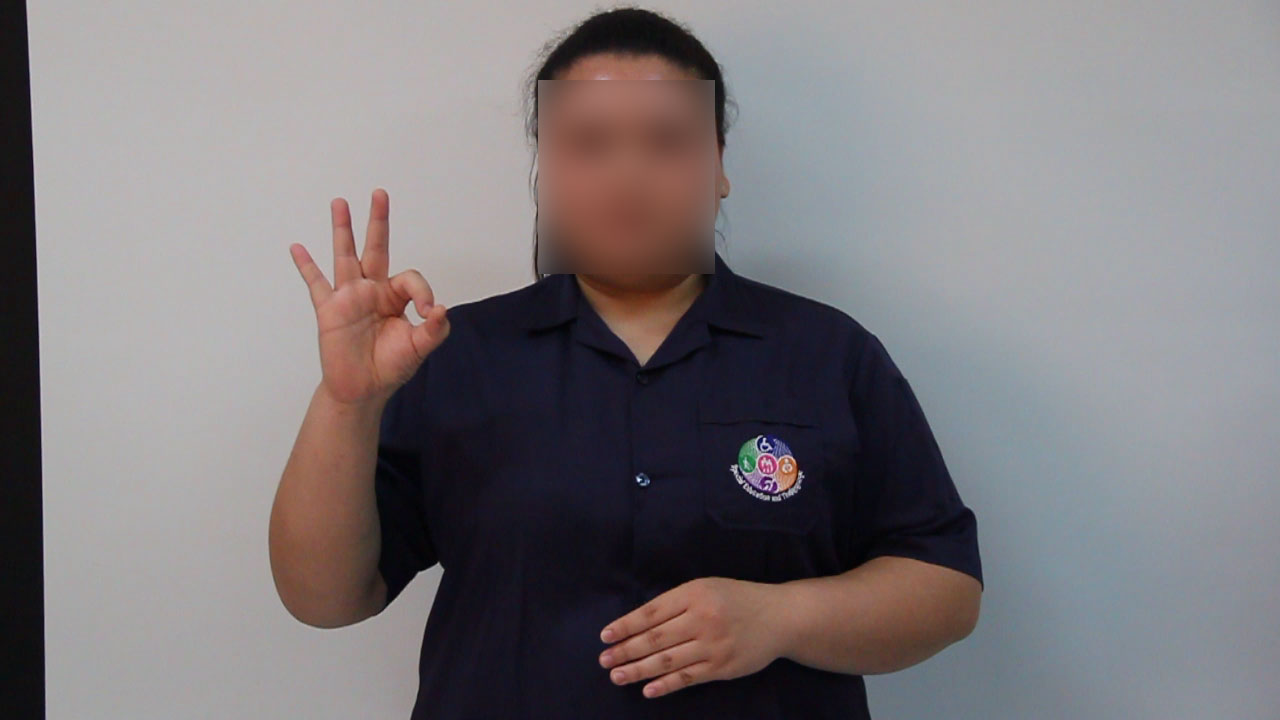for: (279, 172, 456, 412)
